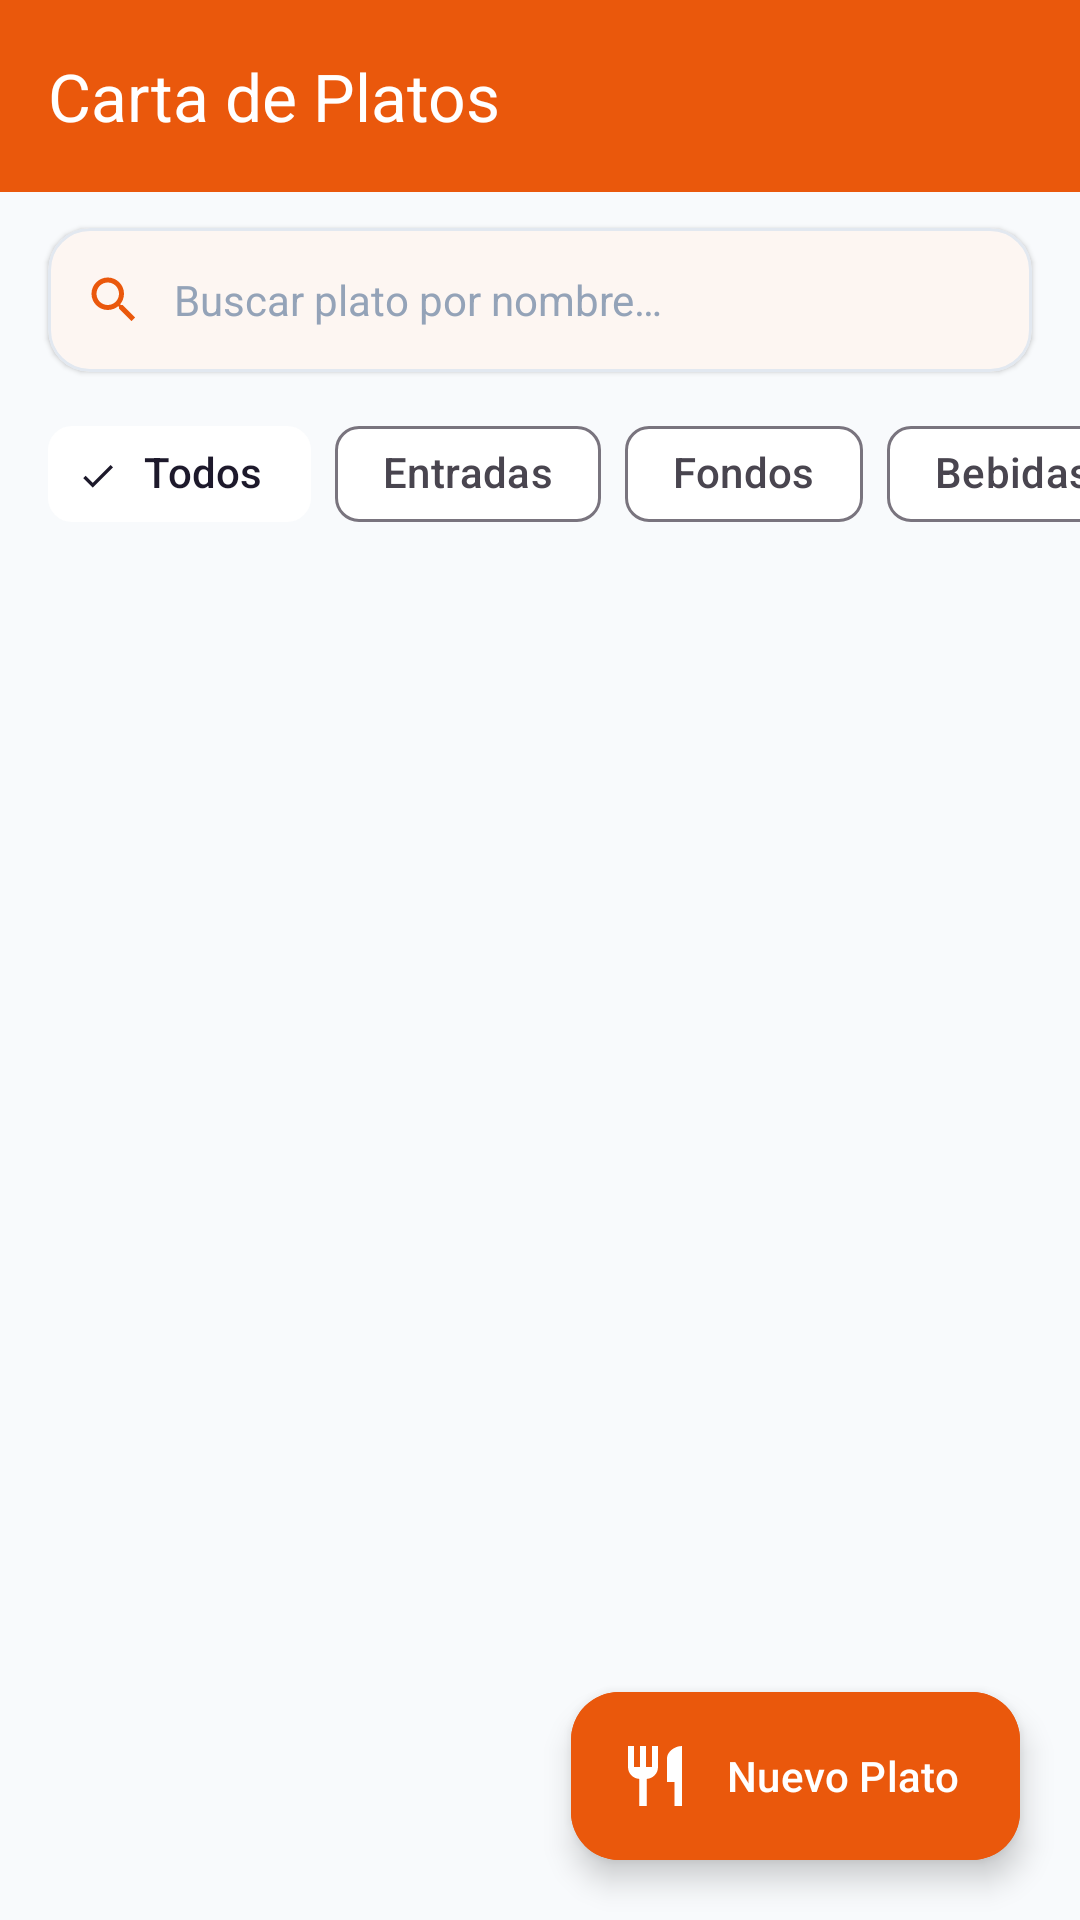

Icons on this 1080*1920 Android screen, each with its box as (x1, y1, x2, y2):
search: (91, 277, 135, 321)
